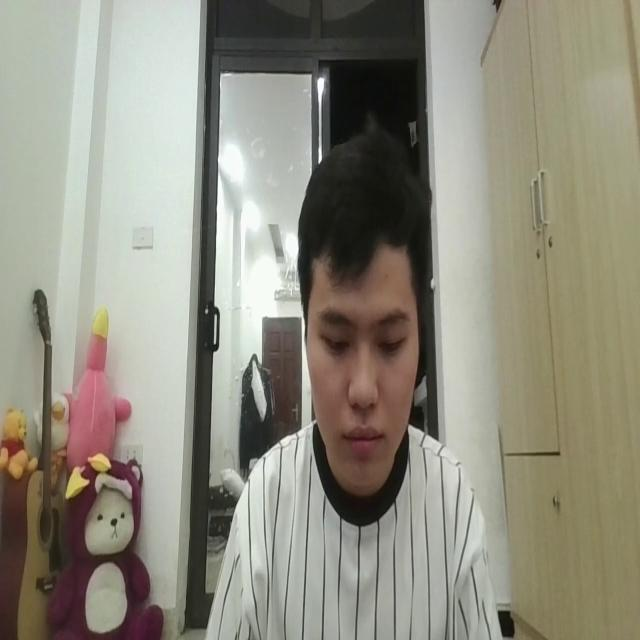student: (208, 129, 504, 640)
